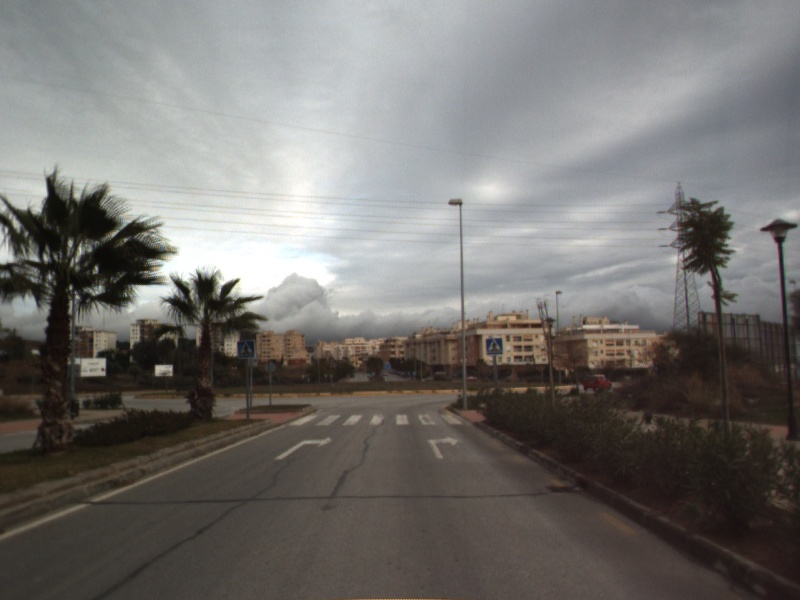RIGHT: (273, 434, 334, 461), (425, 433, 461, 460)
